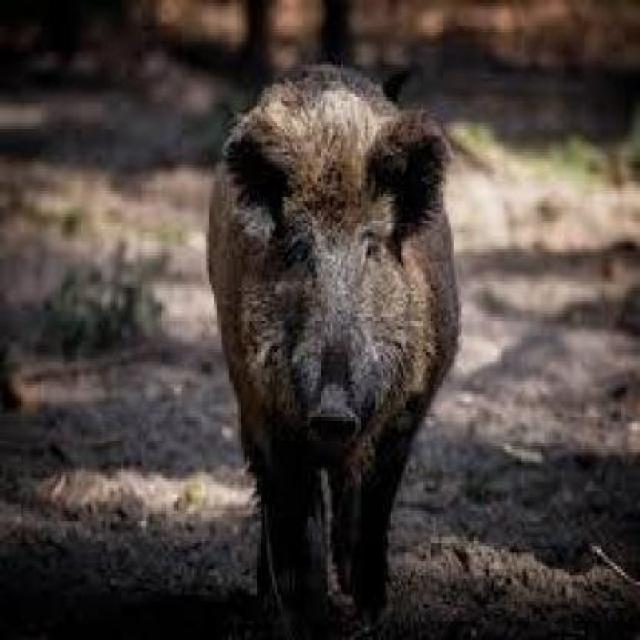wildboar: (202, 54, 460, 640)
